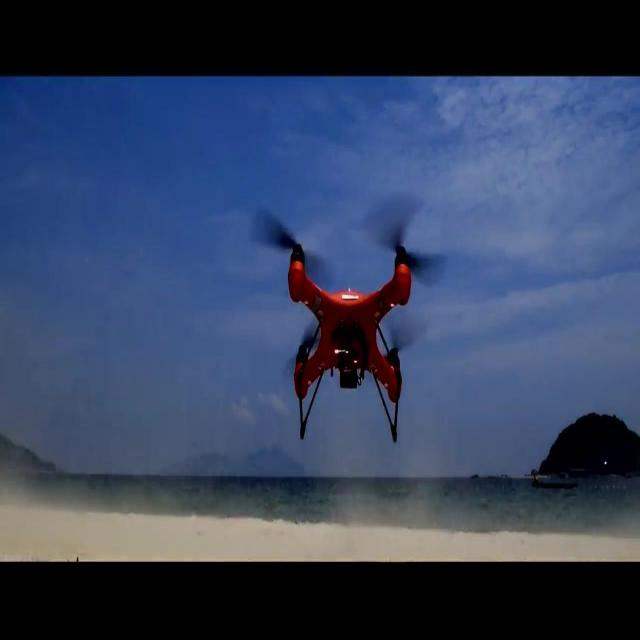UAV: (249, 191, 447, 444)
